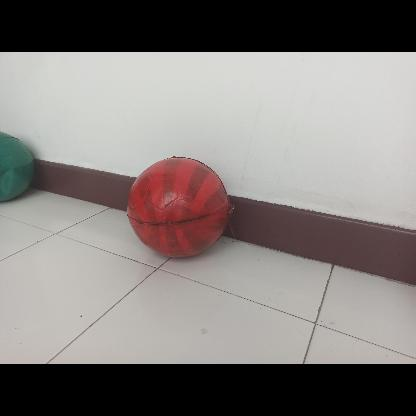red_ball: (126, 155, 226, 255)
